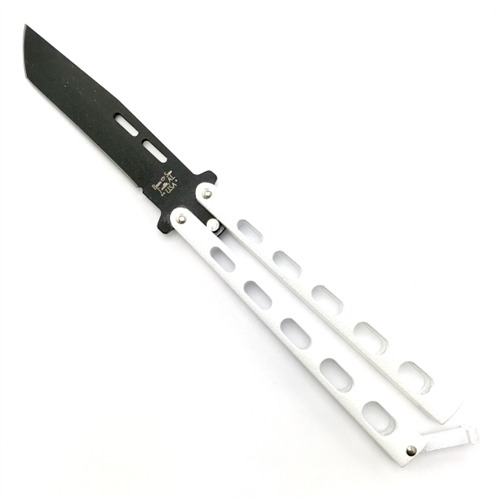knife: (17, 21, 484, 471)
